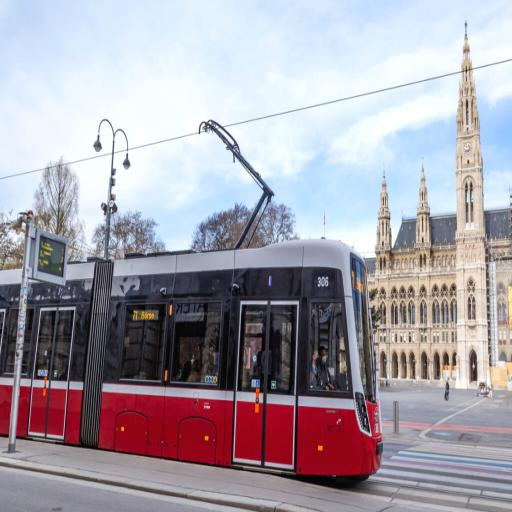Flexity: (0, 235, 385, 485)
